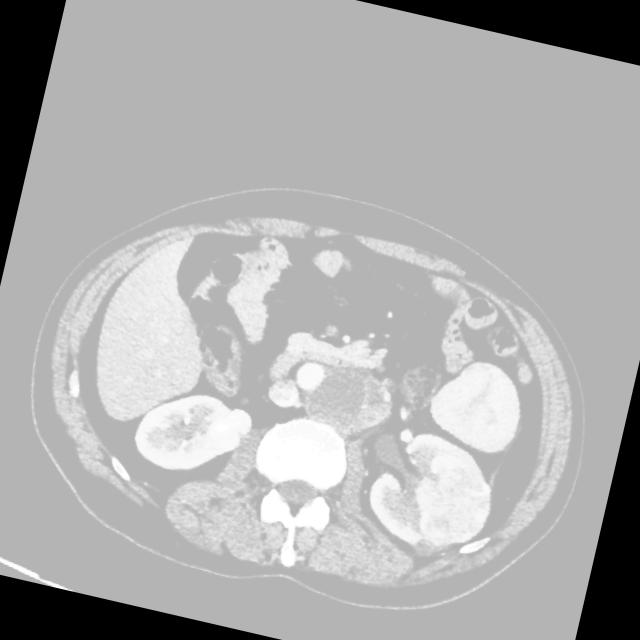TUMOR: (193, 222, 574, 489)
